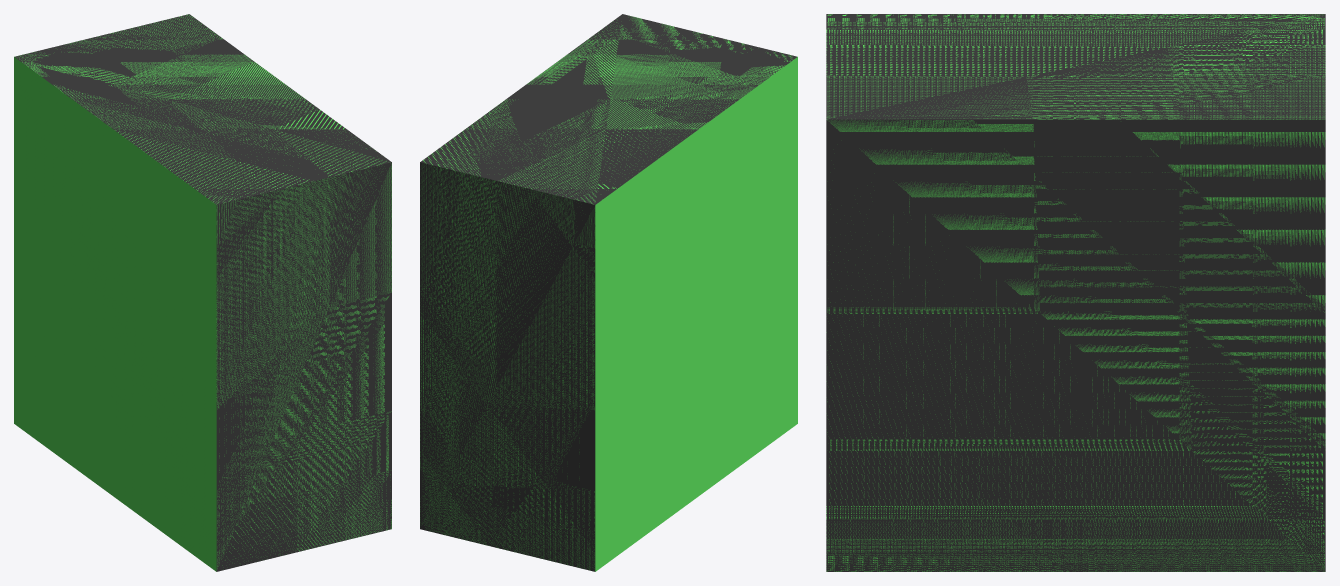
Rendered from ceqiang.dae.
3 views of the same model, side by side, from view 1: azimuth 30°, elevation 25°; view 2: azimuth 150°, elevation 25°; view 3: azimuth 270°, elevation 25° (orthographic). The views are drawn at different scales.
Visible parts, largest first — view 1: ceqiang (×2); view 2: ceqiang (×2); view 3: ceqiang.
Part boxes in pixels (left/top/right/bottom): ceqiang (×2): left=14, top=14, right=391, bottom=571; ceqiang (×2): left=420, top=14, right=797, bottom=571; ceqiang: left=826, top=14, right=1325, bottom=571.
Bounding box in the file's own units: 19.69 × 39.37 × 39.37.
